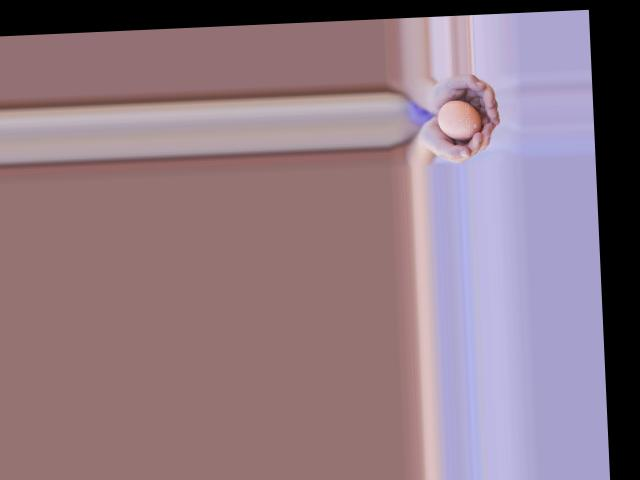egg: (436, 98, 482, 140)
